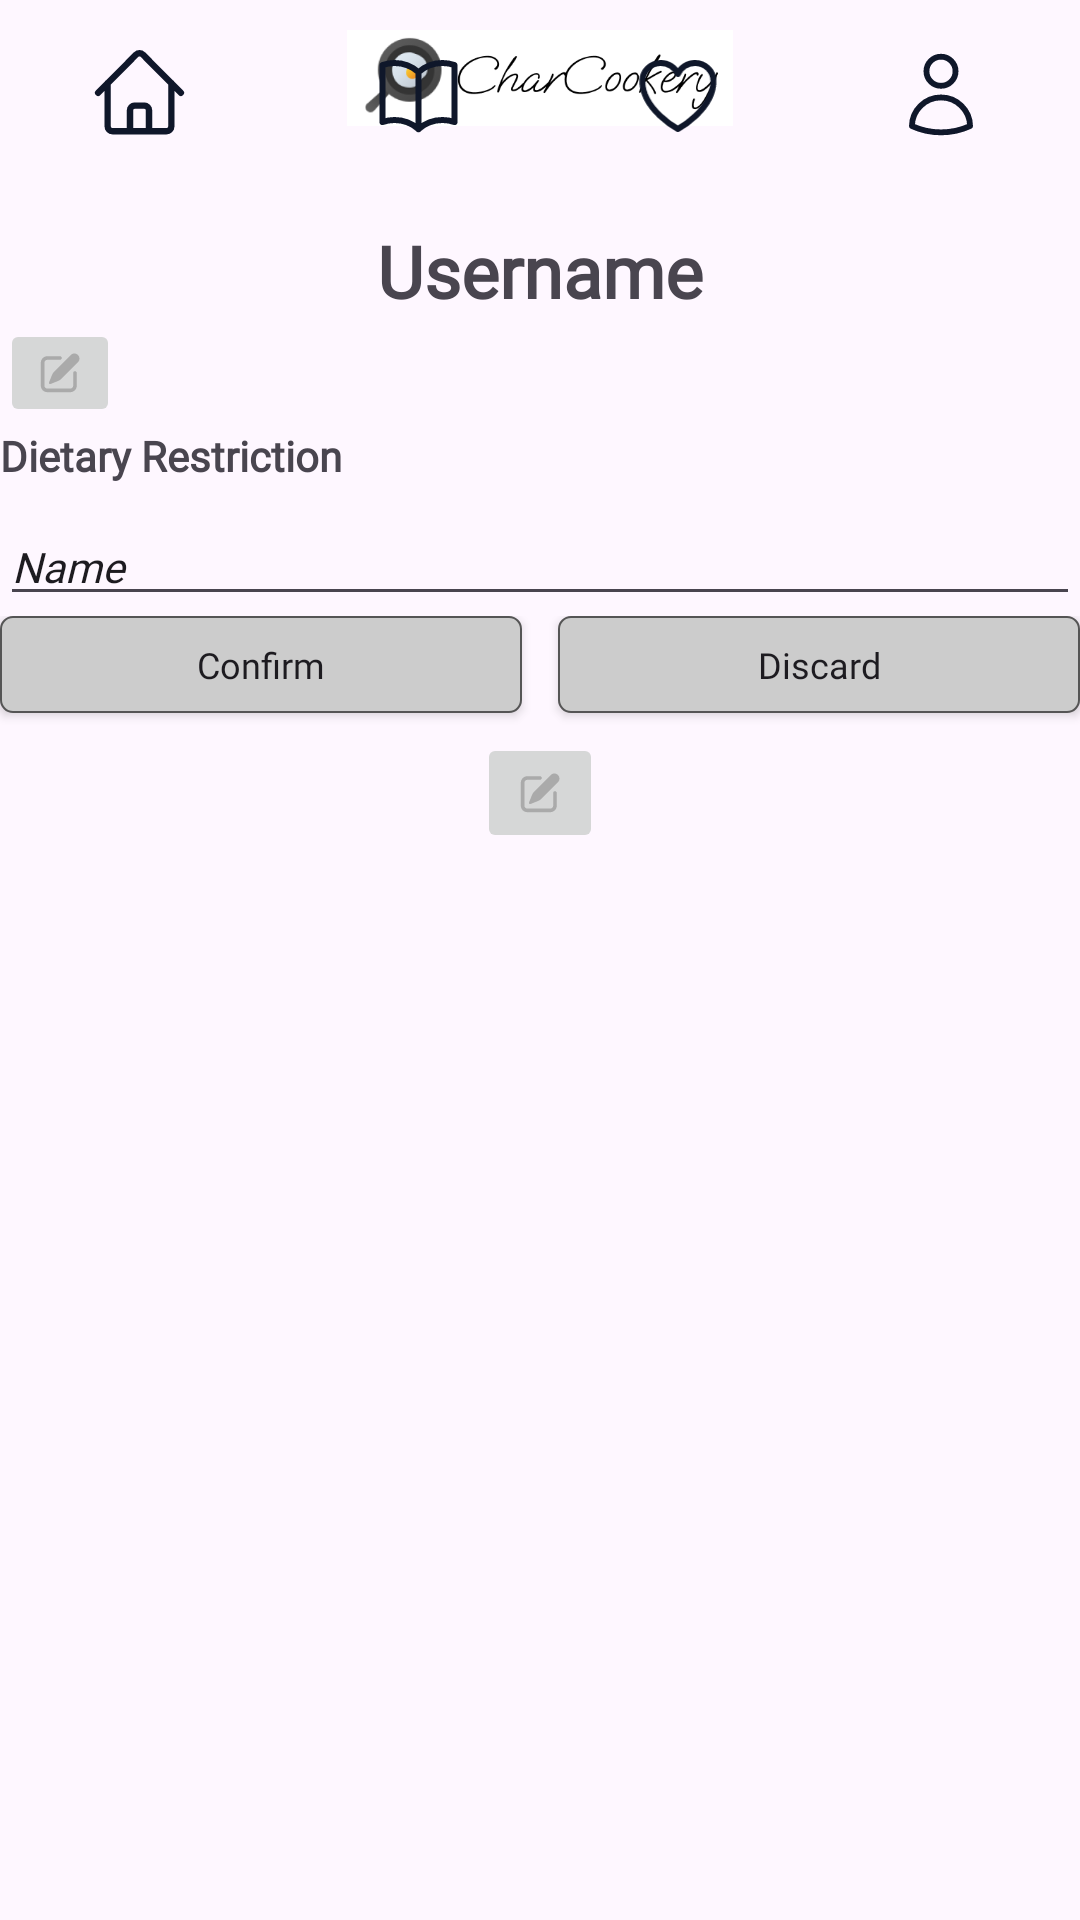

Point at icon controls on the screen. Image size 1080px x 1920px, points as (x=x, y=y).
home: (x=139, y=92)
write: (x=60, y=373), (x=540, y=793)
